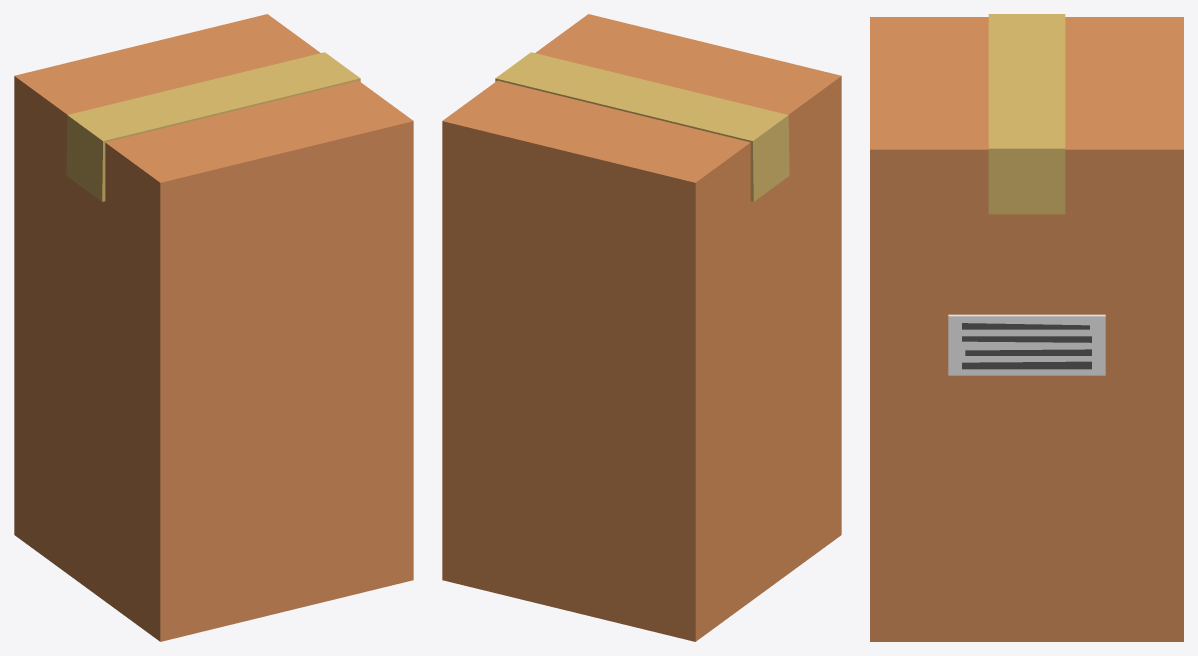
3 views of the same model, side by side, from view 1: azimuth 30°, elevation 25°; view 2: azimuth 150°, elevation 25°; view 3: azimuth 270°, elevation 25° (orthographic). The views are drawn at different scales.
Parts seen in each view (by area): view 1: Куб; view 2: Куб; view 3: Куб.
Part boxes in pixels (box(x1,y1,x2,y2)): Куб: box(14, 14, 413, 641); Куб: box(442, 14, 841, 641); Куб: box(870, 14, 1183, 641).
Size of the model in its own units: 130 by 220 by 127.
